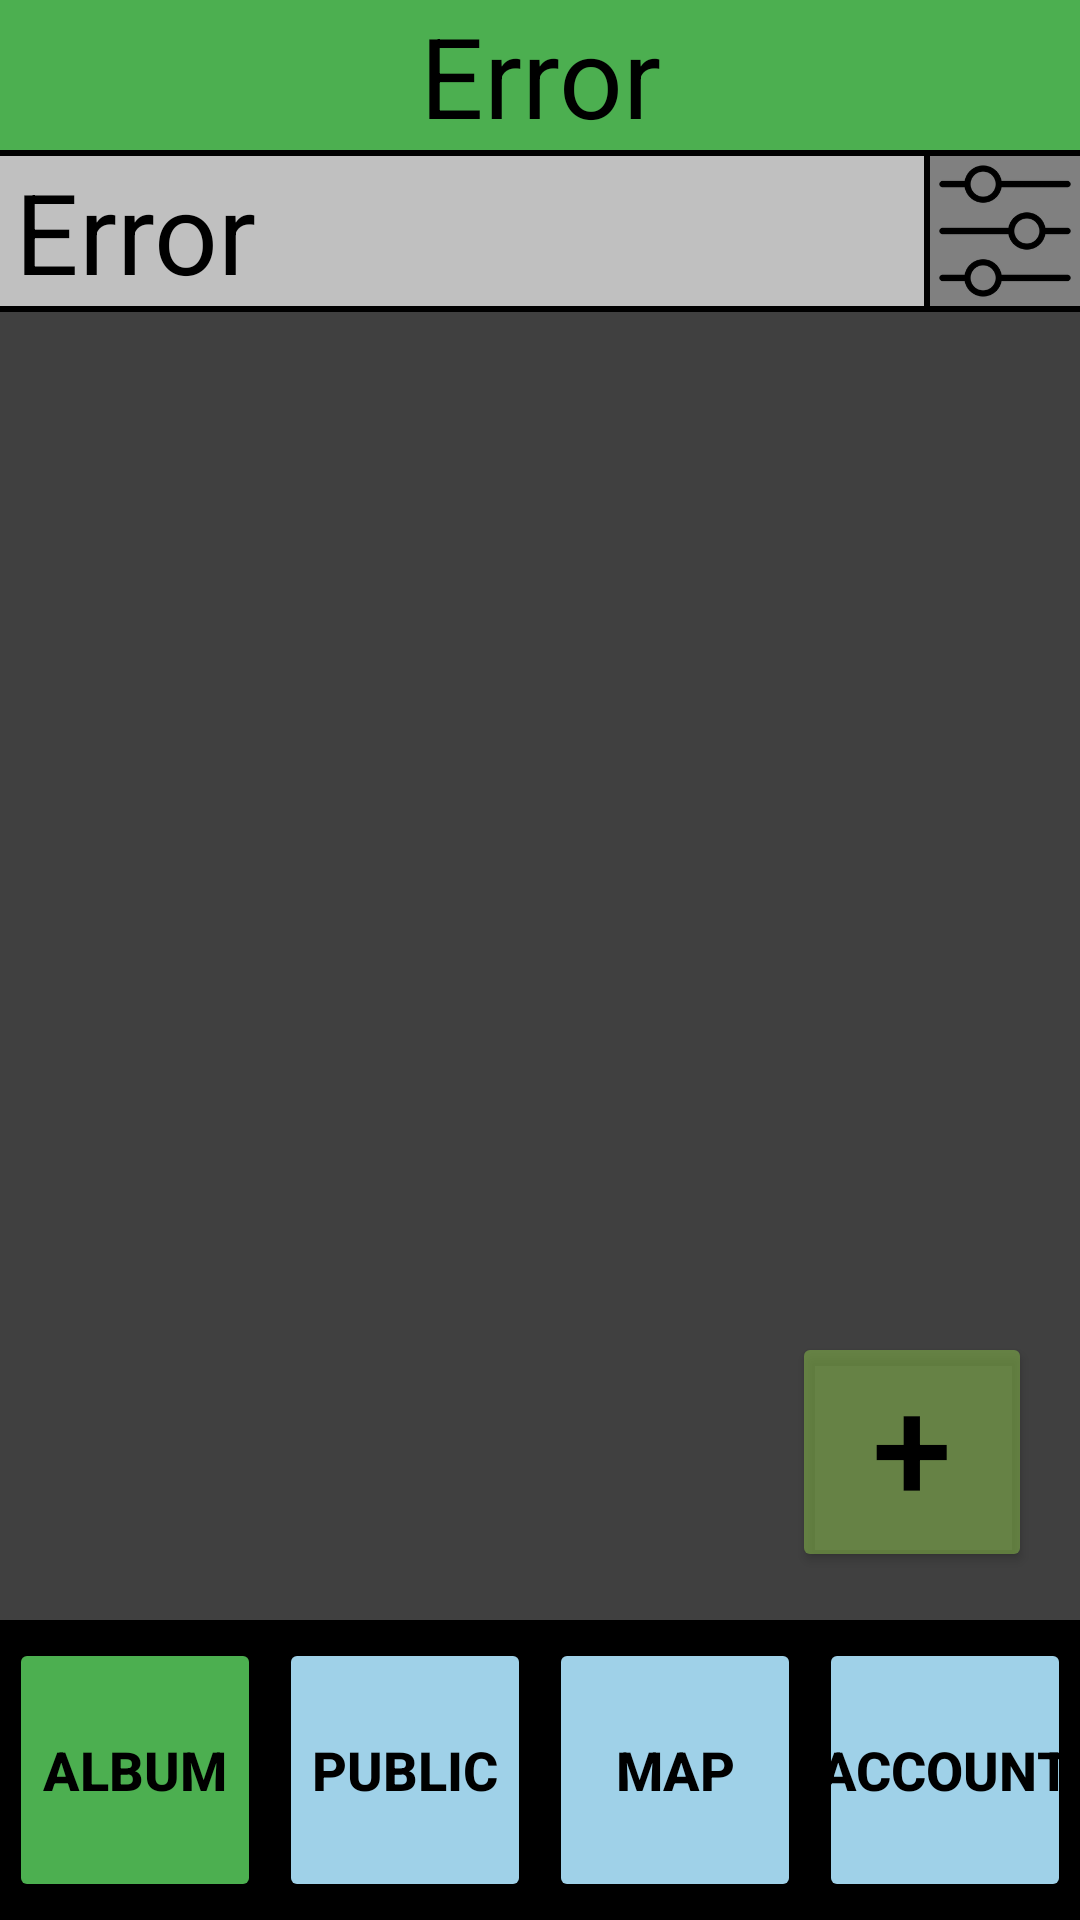

Icon click points for this 1080px x 1920px phone screenshot, format point (x, y):
filter: point (1005, 231)
